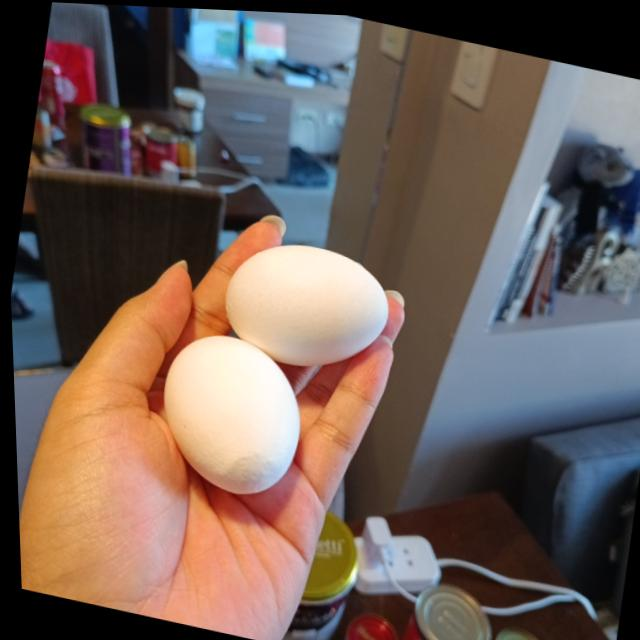egg: (146, 323, 310, 498), (214, 225, 398, 375)
